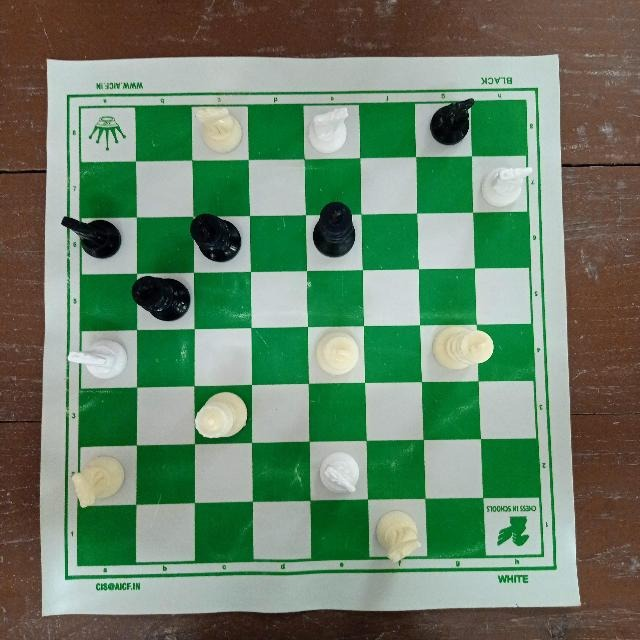black-king: (310, 195, 358, 261), (188, 209, 244, 265), (126, 275, 194, 321)
black-knight: (56, 213, 128, 261), (424, 93, 481, 149)
white-king: (429, 324, 501, 376), (307, 327, 367, 381)
white-knight: (70, 449, 126, 517), (375, 503, 427, 569), (477, 157, 539, 207), (66, 335, 134, 380), (191, 105, 245, 157), (303, 103, 354, 153), (311, 446, 359, 497)
white-queen: (191, 388, 253, 442)
